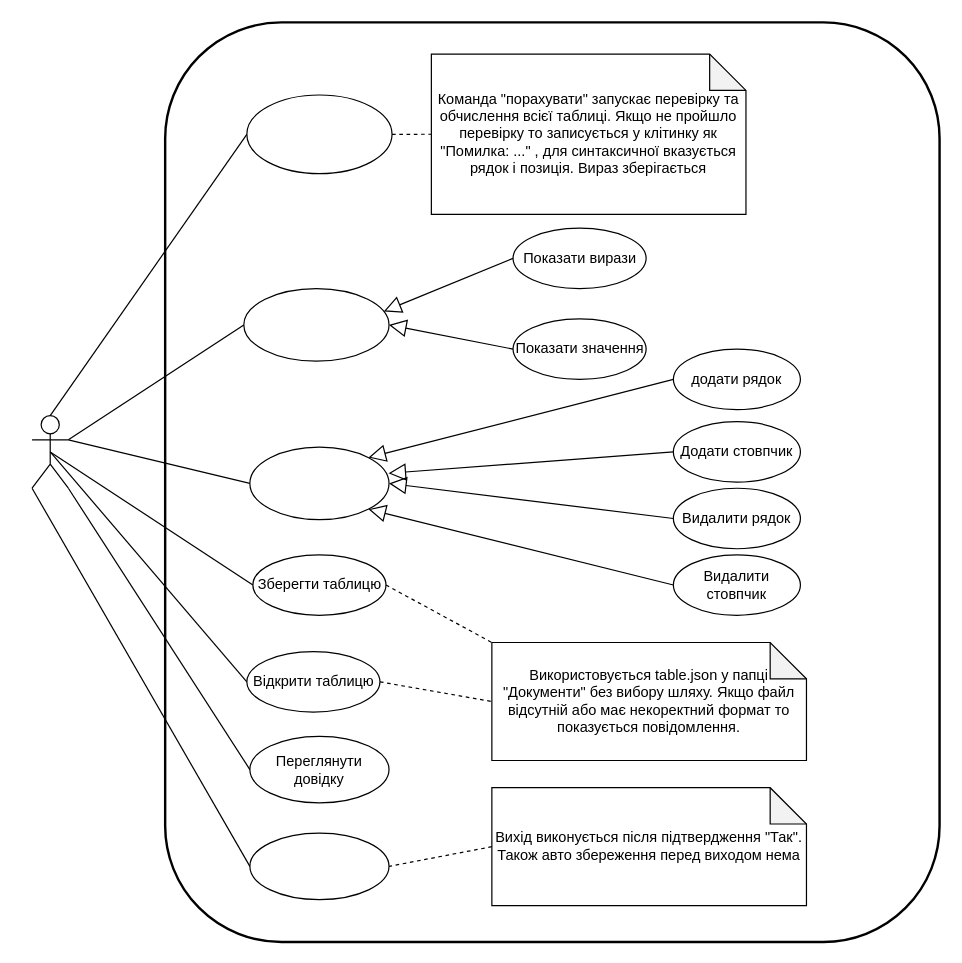
The diagram is 962 pixels wide and 963 high, and some of its shapes have lost their labels. Here are the shapes that lost their labels. From the top down, the centre of each, then its label:
(319,134): Редагувати вираз у клітинці
(316,324): Змінити режим відображення
(49,451): Користувач
(319,483): Змінити розмір таблиці
(319,866): Вийти з програми
